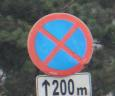No Parking: (28, 12, 94, 78)
